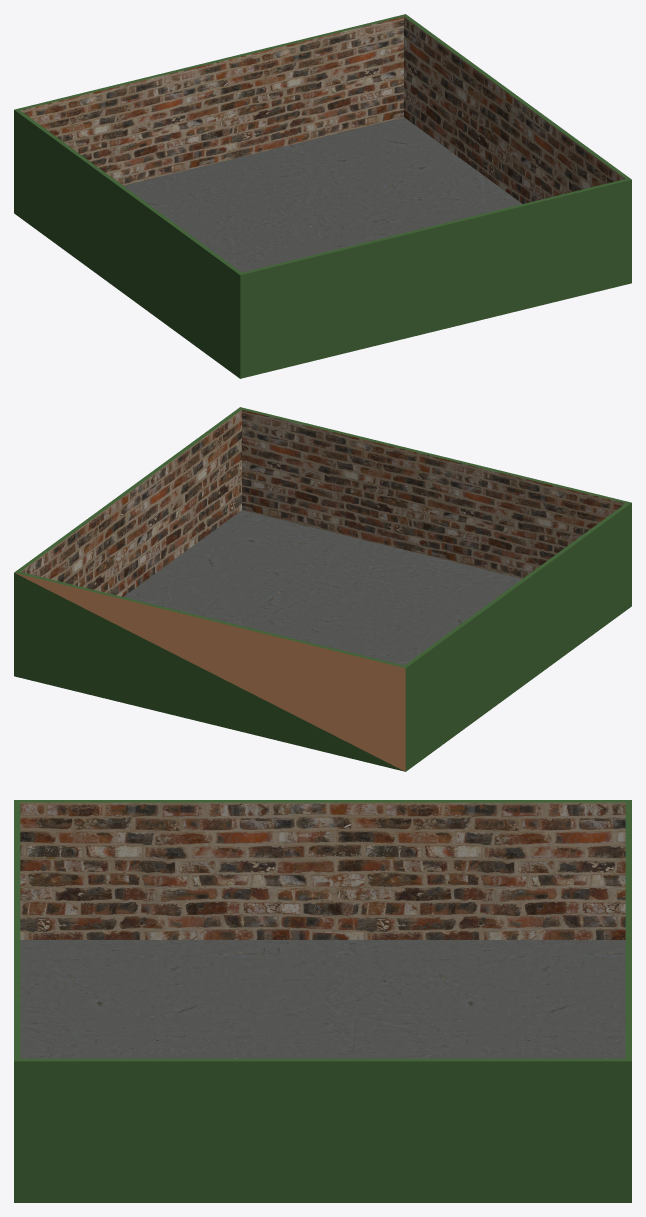
The model's file is SimpleStage.fbx.
3 renders of one model, top to bottom at view 1: azimuth 30°, elevation 25°; view 2: azimuth 150°, elevation 25°; view 3: azimuth 270°, elevation 25°, orthographic. The views are drawn at different scales.
Visible parts, largest first — view 1: polySurface1; view 2: polySurface1; view 3: polySurface1.
Boxes of the visible parts, x1,y1,x2,y2 form: polySurface1: (14,14,631,378); polySurface1: (14,407,631,771); polySurface1: (14,800,631,1202).
Size of the model in its own units: 150 by 37.93 by 150.
Materials: 4 (2 with a texture image).
